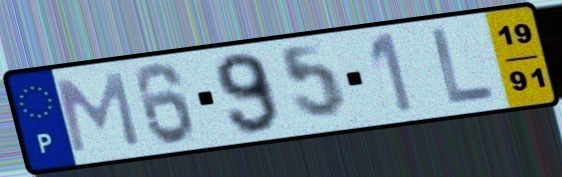1: (364, 30, 416, 118)
5: (274, 40, 354, 127)
6: (133, 60, 198, 150)
9: (210, 49, 284, 137)
L: (428, 24, 497, 107)
M: (52, 68, 144, 156)
